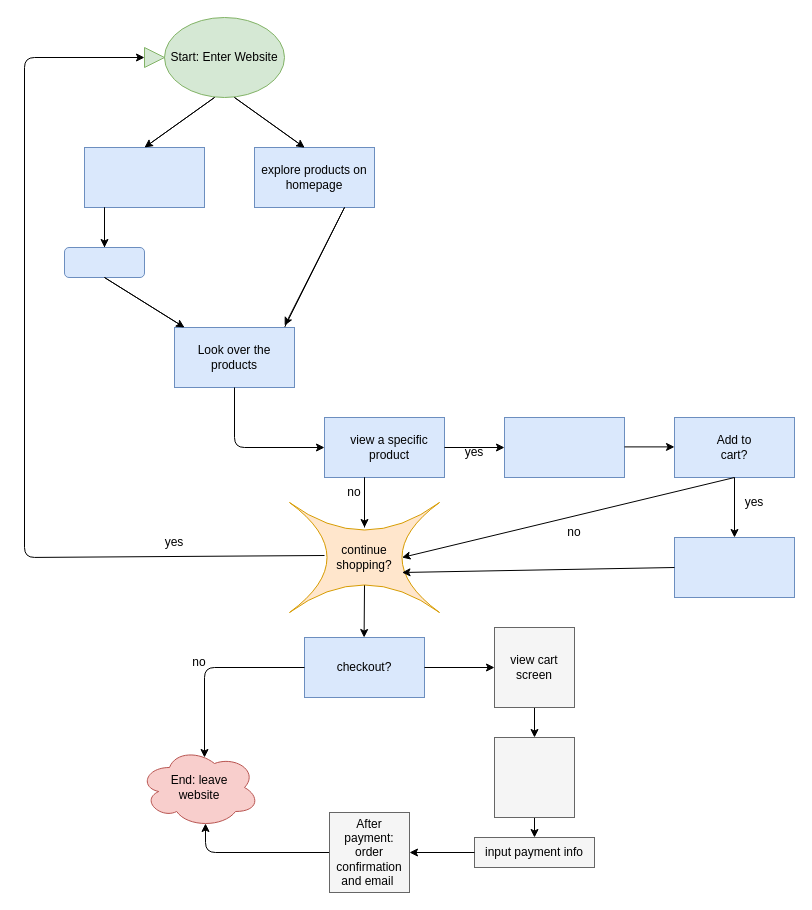
Some shapes in this 812 by 910 pixel diagram are drawn without their labels. Here are the shapes that lost their labels. From the top down, the centre of each, then its label:
At pixel 144 177: "Search for a product".
At pixel 104 262: "provide input".
At pixel 564 447: "open products webpage".
At pixel 734 567: "Show added to cart confirmatoon".
At pixel 534 777: "view payment screen".
